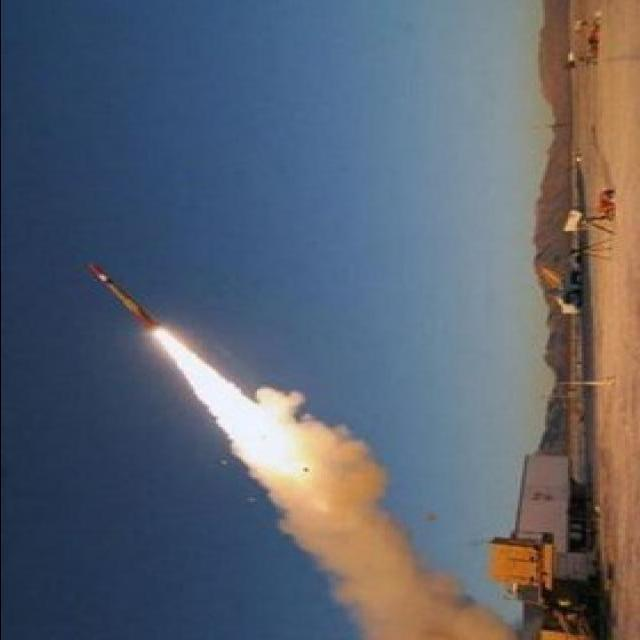missile: (86, 256, 160, 336)
